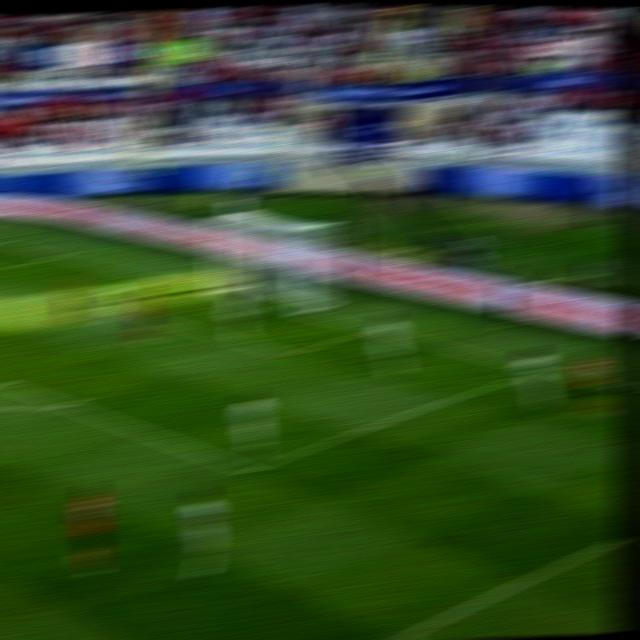bigarea_bottom_inner: (232, 454, 270, 485)
bigarea_top_outter: (41, 246, 71, 263)
bottom_arc_area_intersection: (47, 392, 83, 418)
smallarea_bottom_inner: (271, 341, 304, 365)
smallarea_bottom_outter: (350, 316, 385, 340)
smallarea_top_inner: (69, 289, 99, 307)
smallarea_top_outter: (142, 270, 174, 290)
